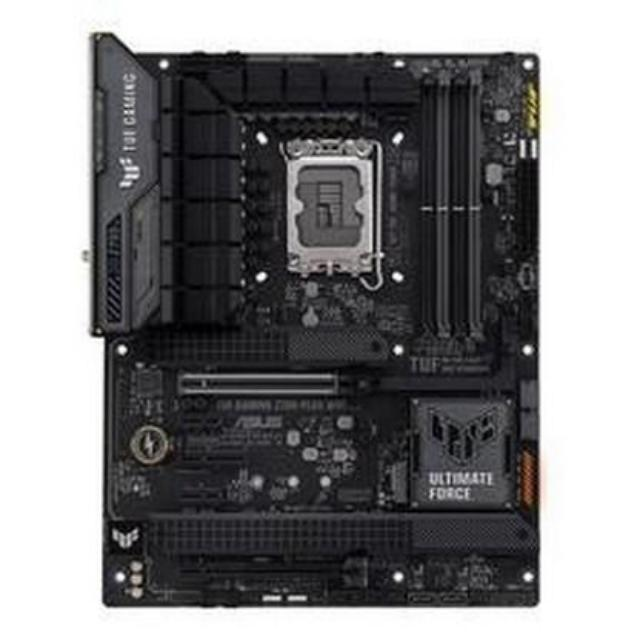Mainboard: (93, 35, 544, 610)
